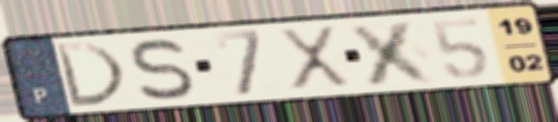5: (428, 15, 492, 81)
7: (211, 27, 266, 99)
D: (51, 40, 130, 109)
S: (127, 36, 197, 102)
X: (344, 17, 443, 88), (275, 23, 356, 91)
